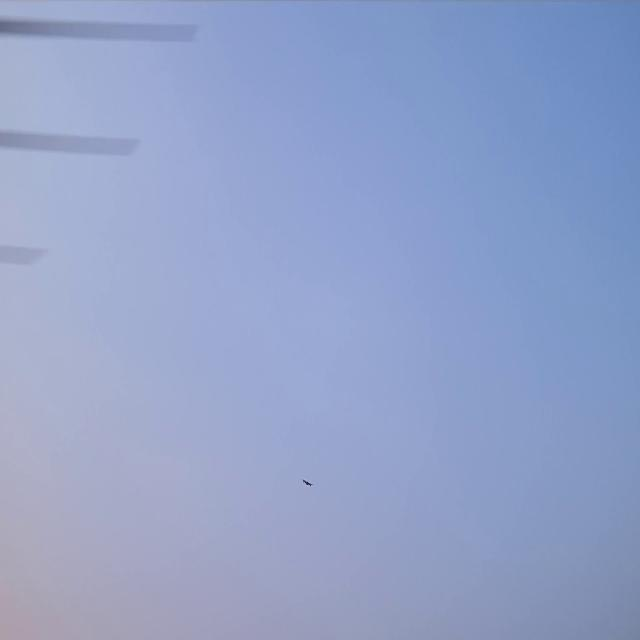UAV: (301, 476, 313, 490)
